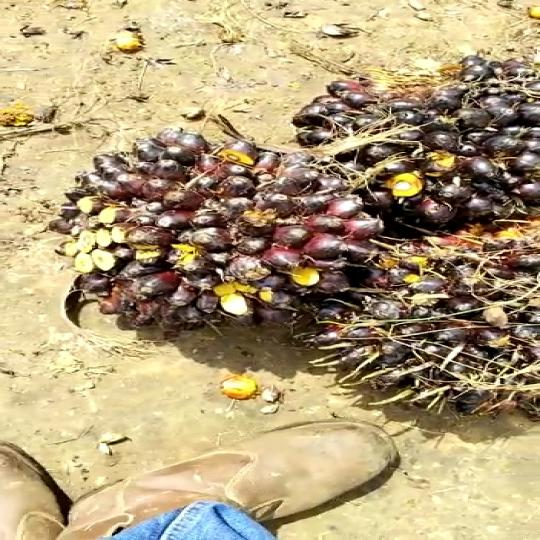mentah: (72, 117, 389, 331), (271, 62, 540, 233), (320, 229, 540, 432)
